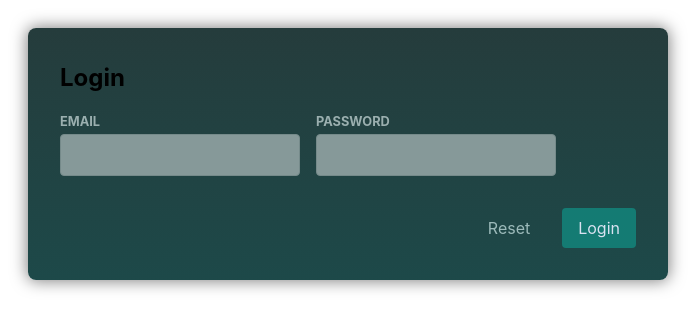
Scenario: LoginState › reset › clears both fields
Type "a@b.com" into the field labelled "Email".
click(180, 155); type("a@b.com")  # box [60,134,300,176]
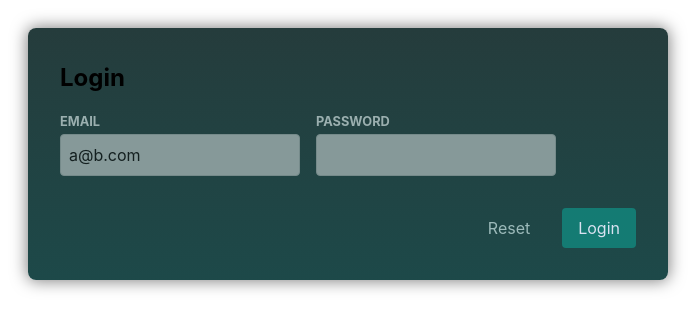
Type "secret1" into the password field labelled "Password".
click(436, 155); type("secret1")  # box [316,134,556,176]
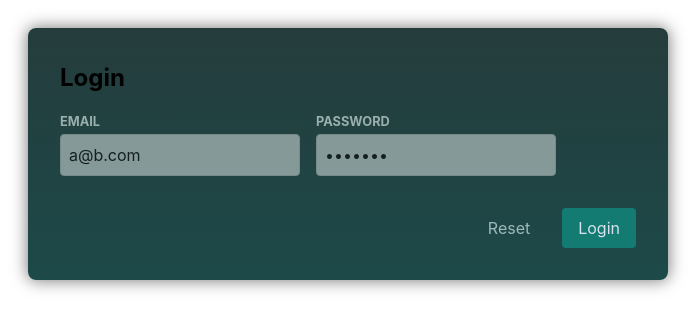
Click the button "Reset".
click(509, 228)  # box [472,208,546,248]
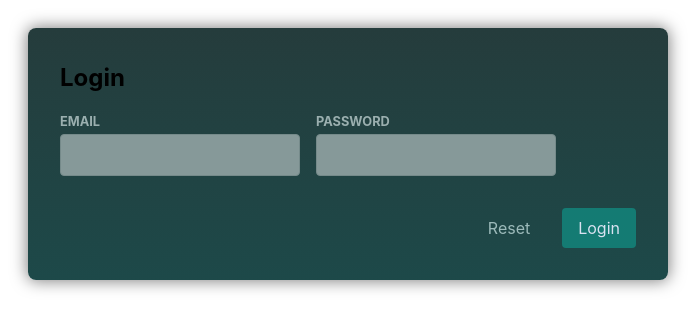
Check: the field labelled "Email" is empty, box [60,134,300,176]
Check: the password field labelled "Password" is empty, box [316,134,556,176]
